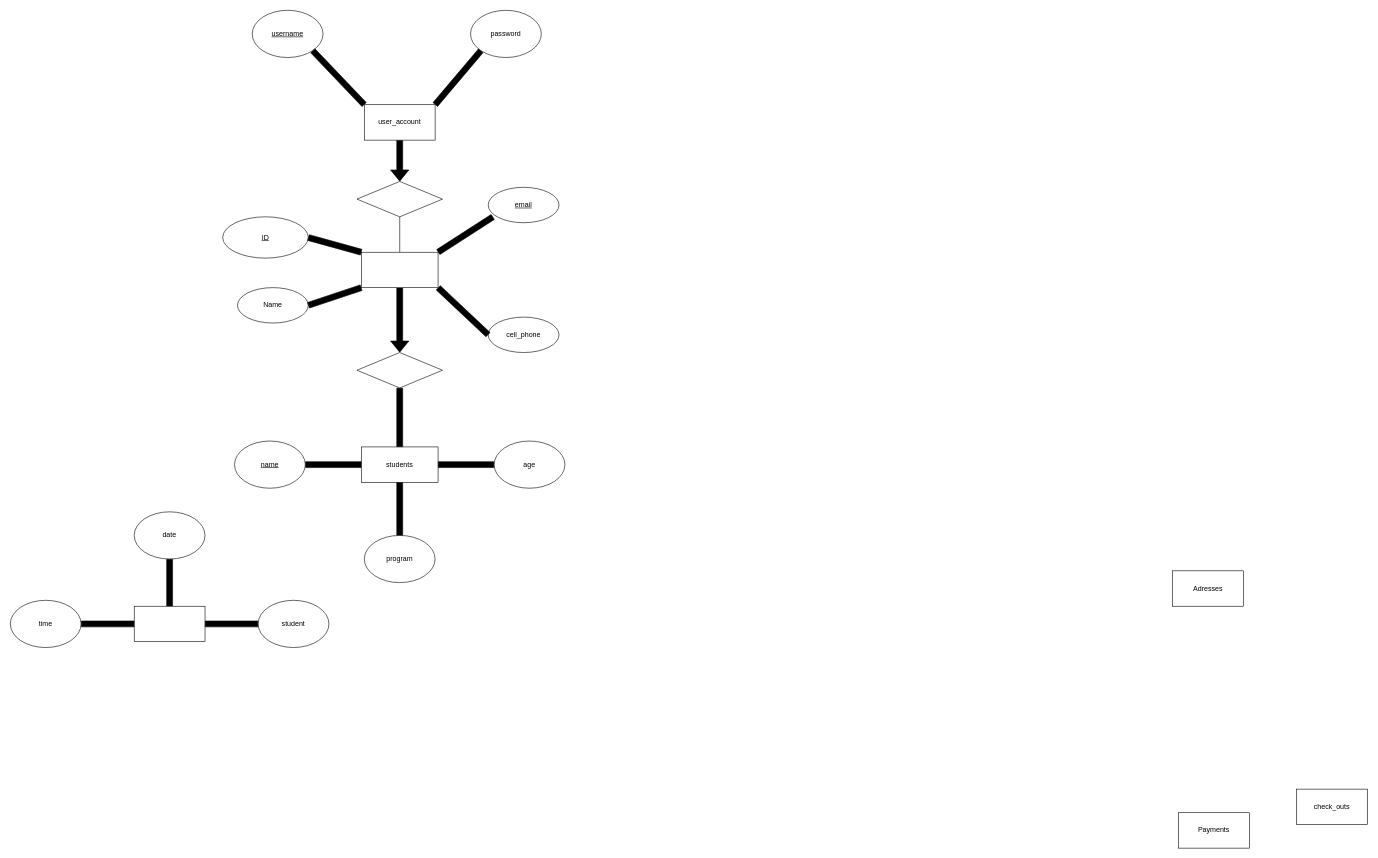
Some shapes in this 1378 by 858 pixel diagram are drawn without their labels. Each missing label, with the centre of its shape:
"Check_ins" belongs at point 169,624.
"has a" belongs at point 399,199.
"have" belongs at point 399,370.
"Parents" belongs at point 399,270.
